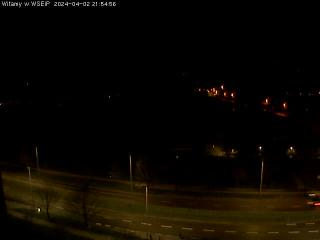bus: (304, 190, 320, 210)
